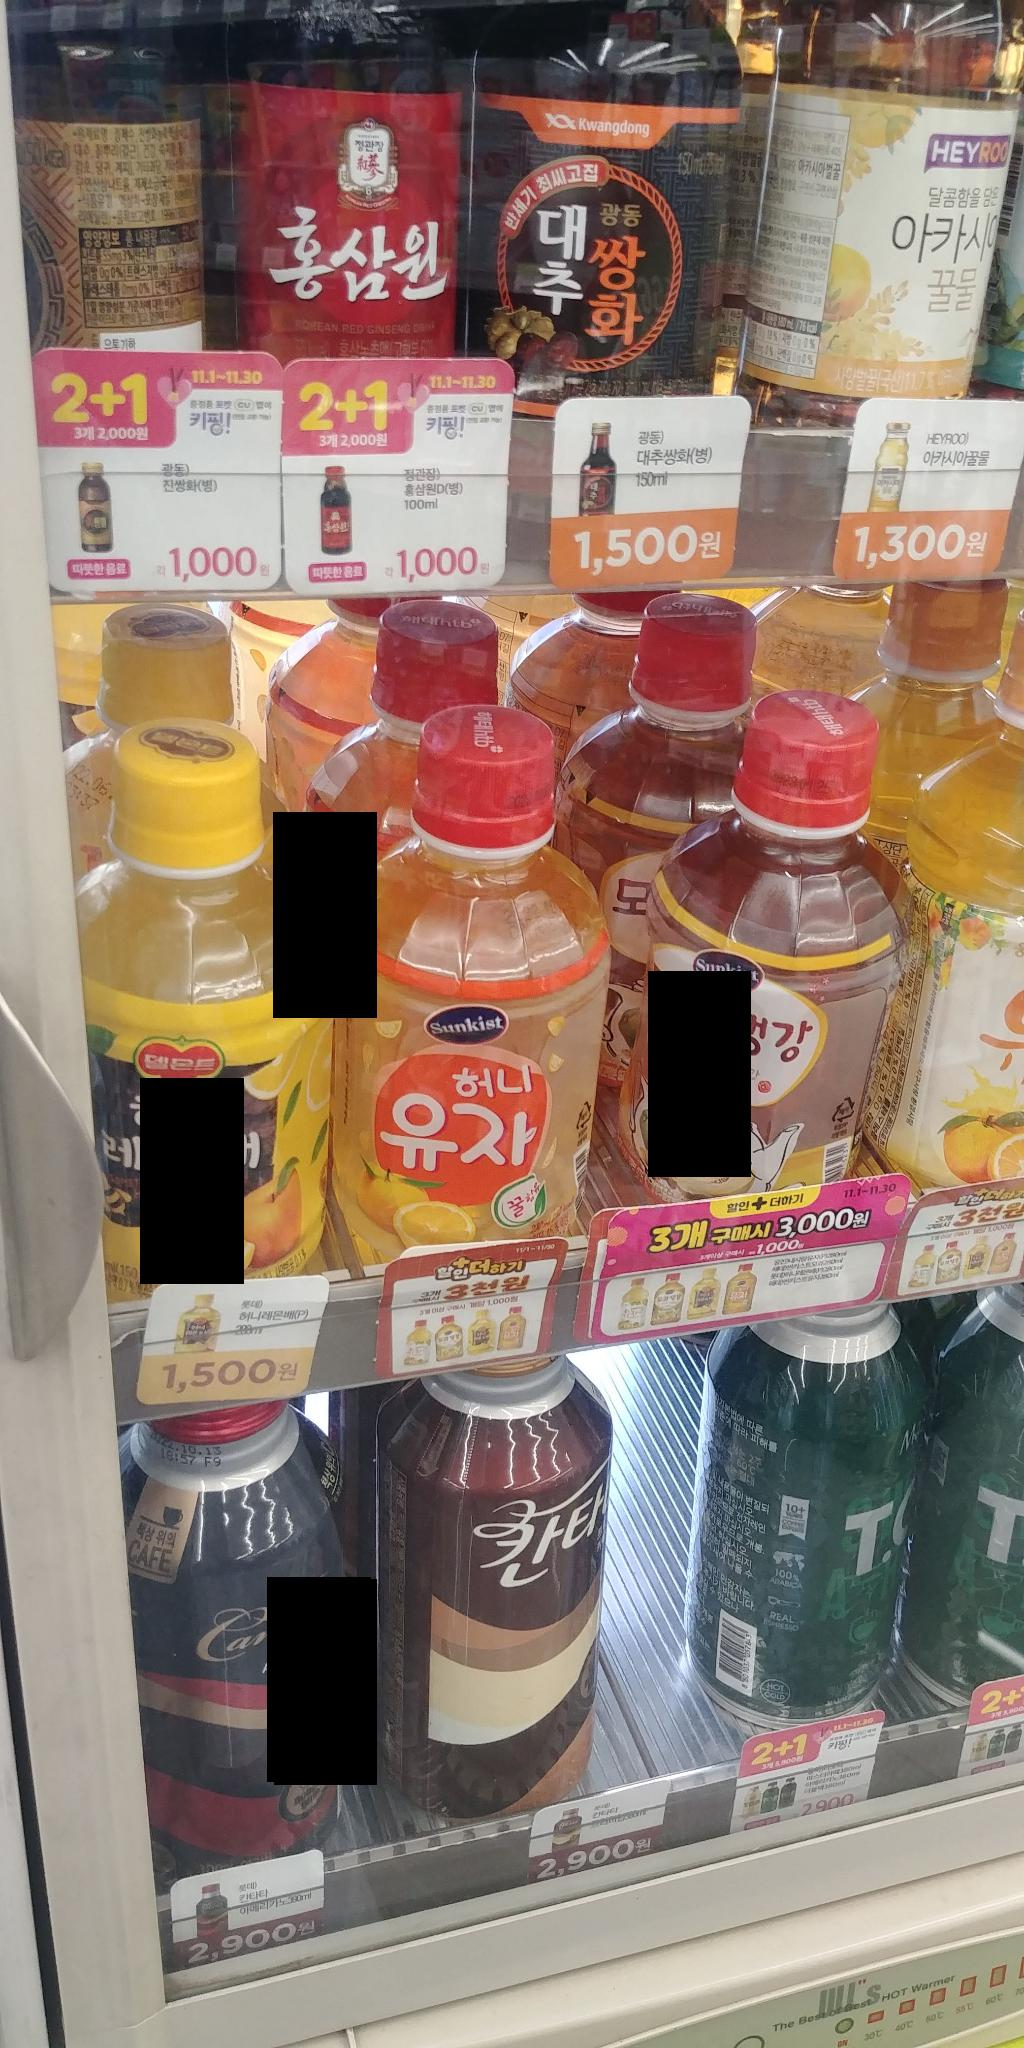honeyyuja: (336, 729, 592, 1270)
